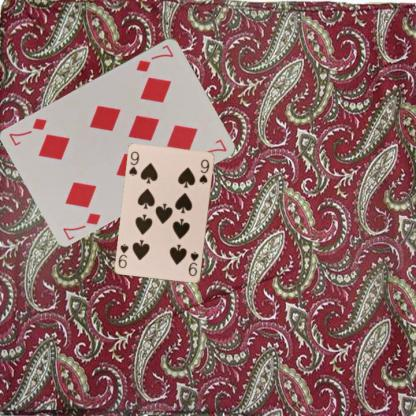7d: (134, 42, 175, 74), (60, 210, 102, 241)
9s: (186, 249, 200, 277), (127, 149, 140, 177)
